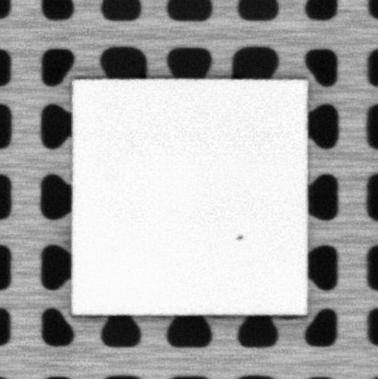DIE_INK: (233, 233, 246, 241)
